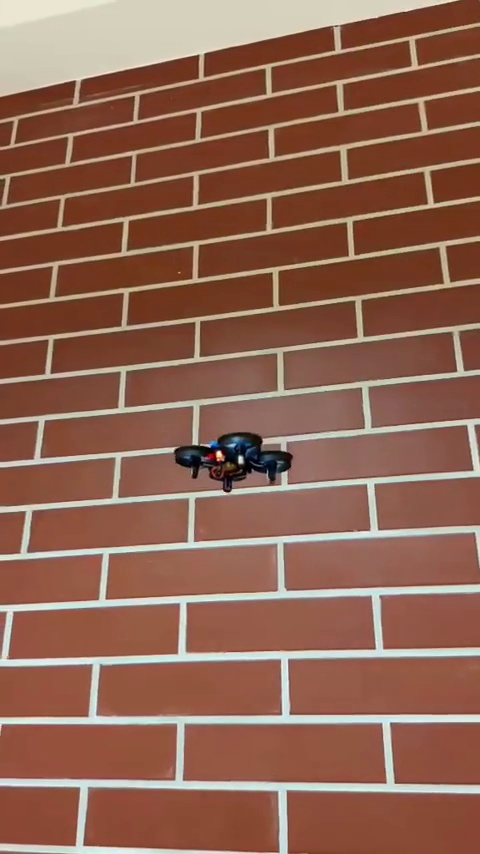drone: (176, 433, 295, 500)
